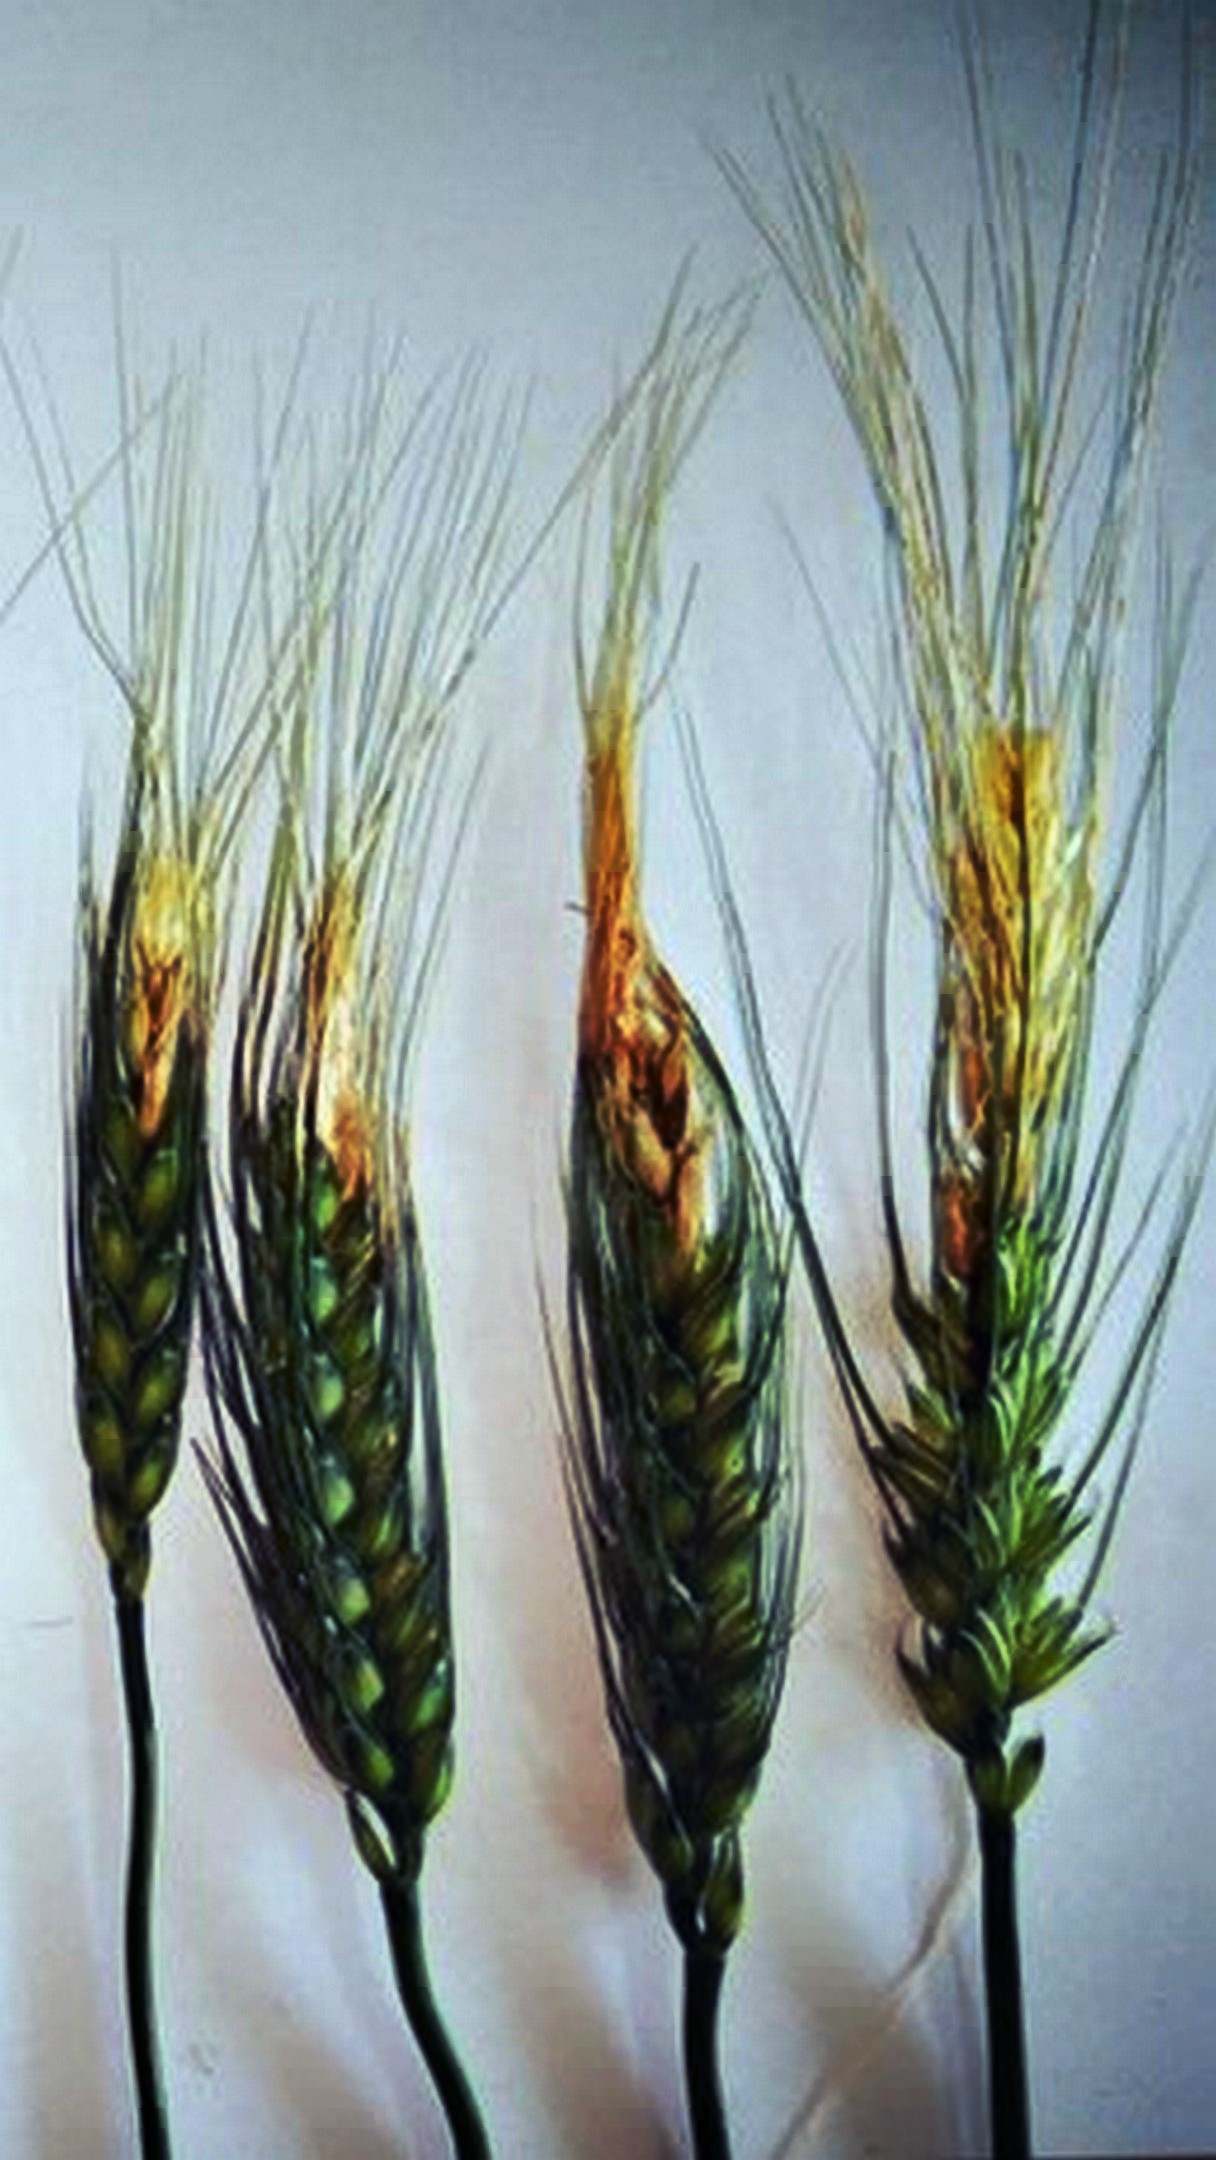Wheat scab: (544, 659, 1123, 1458), (44, 765, 495, 1452)
